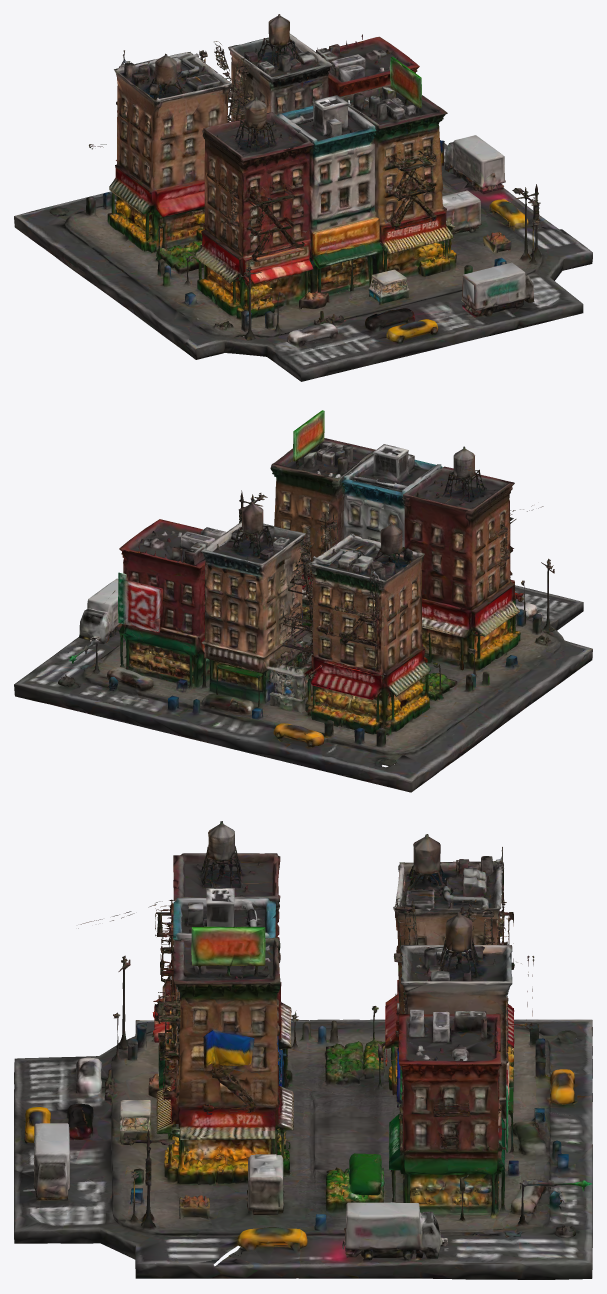
The model's file is evening-neon-market.glb.
3 renders of one model, top to bottom at view 1: azimuth 30°, elevation 25°; view 2: azimuth 150°, elevation 25°; view 3: azimuth 270°, elevation 25°, orthographic. The views are drawn at different scales.
Parts seen in each view (by area): view 1: Mesh_0; view 2: Mesh_0; view 3: Mesh_0.
Boxes of the visible parts, bbox=[...] form: Mesh_0: bbox=[14, 14, 592, 381]; Mesh_0: bbox=[14, 410, 592, 792]; Mesh_0: bbox=[14, 821, 592, 1279].
Size of the model in its own units: 28.77 by 14.99 by 28.77.
Materials: 1 (1 with a texture image).
